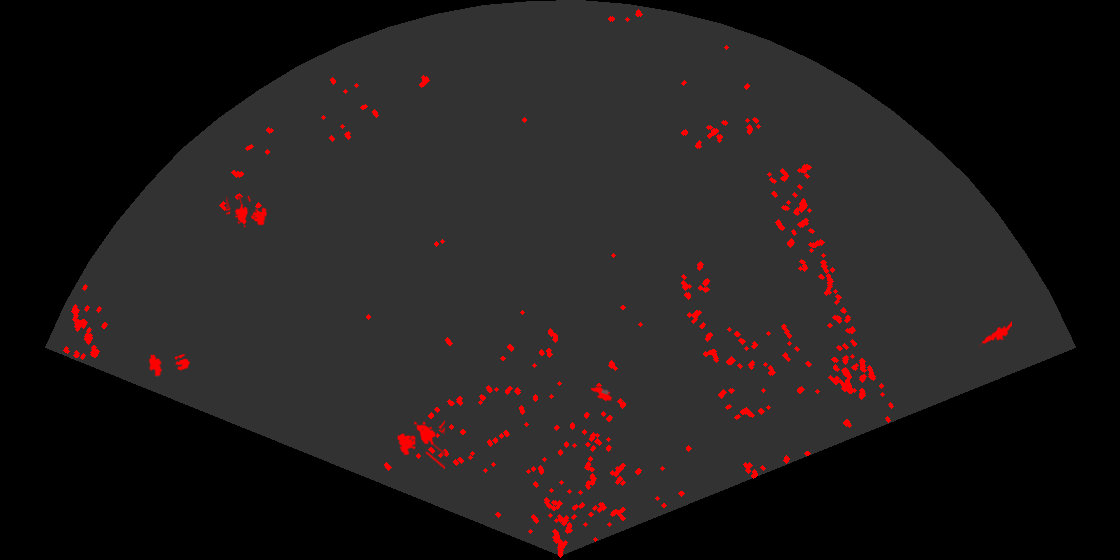AUV: (589, 385, 614, 403), (147, 353, 162, 377)
ball: (173, 352, 192, 372)
cage: (396, 418, 445, 469), (226, 196, 269, 229)
frogman: (979, 319, 1012, 349)
